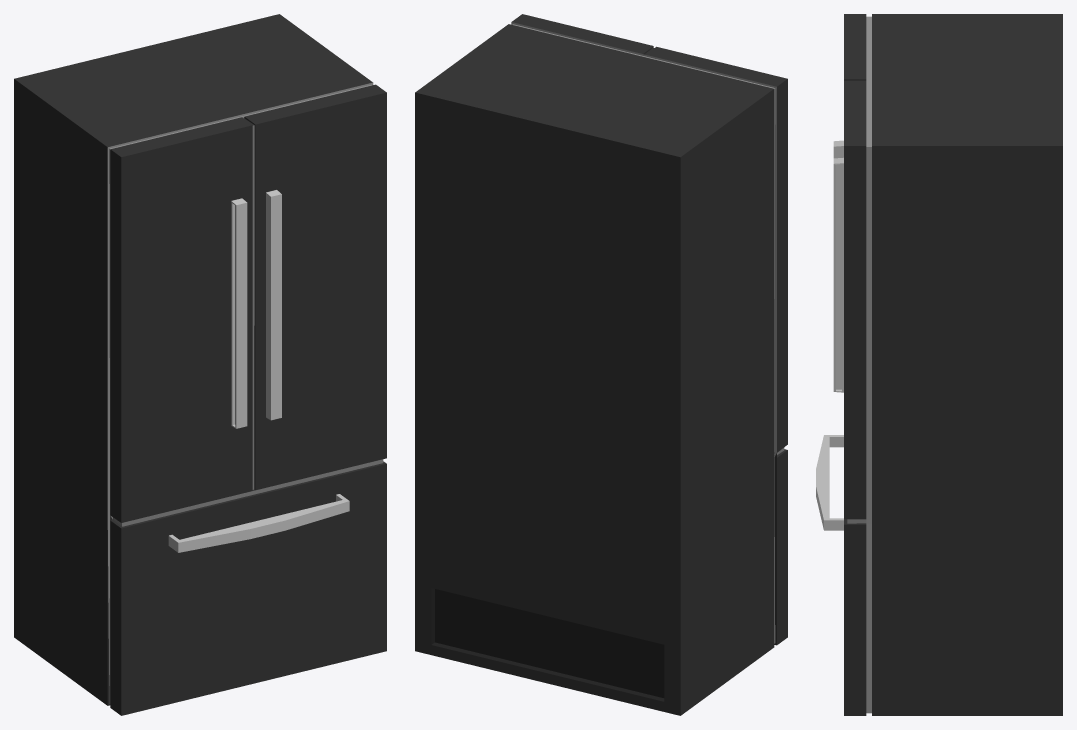
File: fridge_01.glb
3 views of the same model, side by side, from view 1: azimuth 30°, elevation 25°; view 2: azimuth 150°, elevation 25°; view 3: azimuth 270°, elevation 25° (orthographic).
Visible parts, largest first — view 1: Cube; view 2: Cube; view 3: Cube.
Part boxes in pixels (box(x1,y1,x2,y2)): Cube: box(14, 14, 386, 715); Cube: box(415, 14, 787, 715); Cube: box(816, 14, 1062, 715).
Bounding box in the file's own units: 0.8865 × 1.78 × 0.7003.
Materials: 1 (1 with a texture image).
